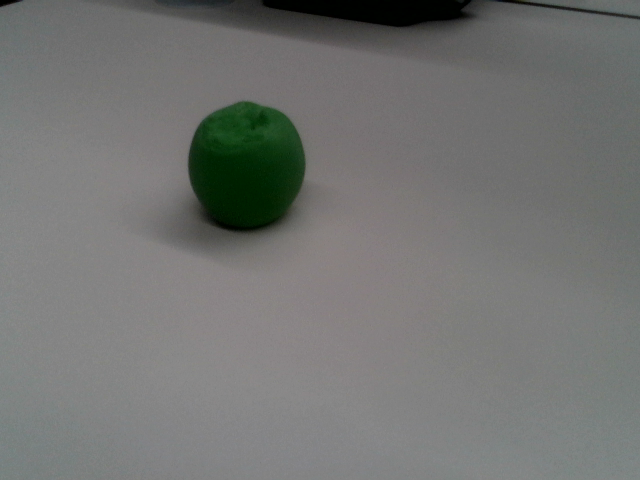green apple: (183, 98, 309, 232)
